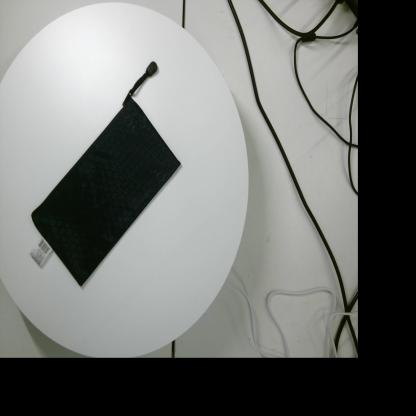Stationery: (30, 61, 181, 287)
